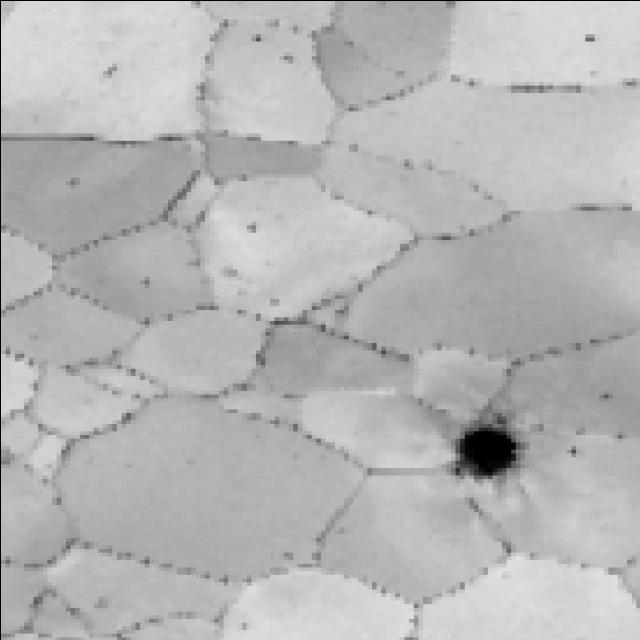good_void: (445, 409, 534, 496), (587, 383, 615, 406), (97, 60, 125, 79), (330, 300, 357, 318), (275, 49, 298, 65), (64, 172, 83, 191), (134, 273, 152, 290), (242, 218, 260, 234), (578, 29, 598, 43), (248, 29, 268, 43), (565, 441, 580, 456)
